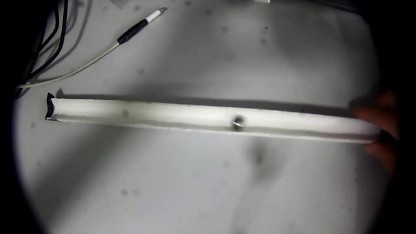gangzhu: (231, 112, 247, 128)
